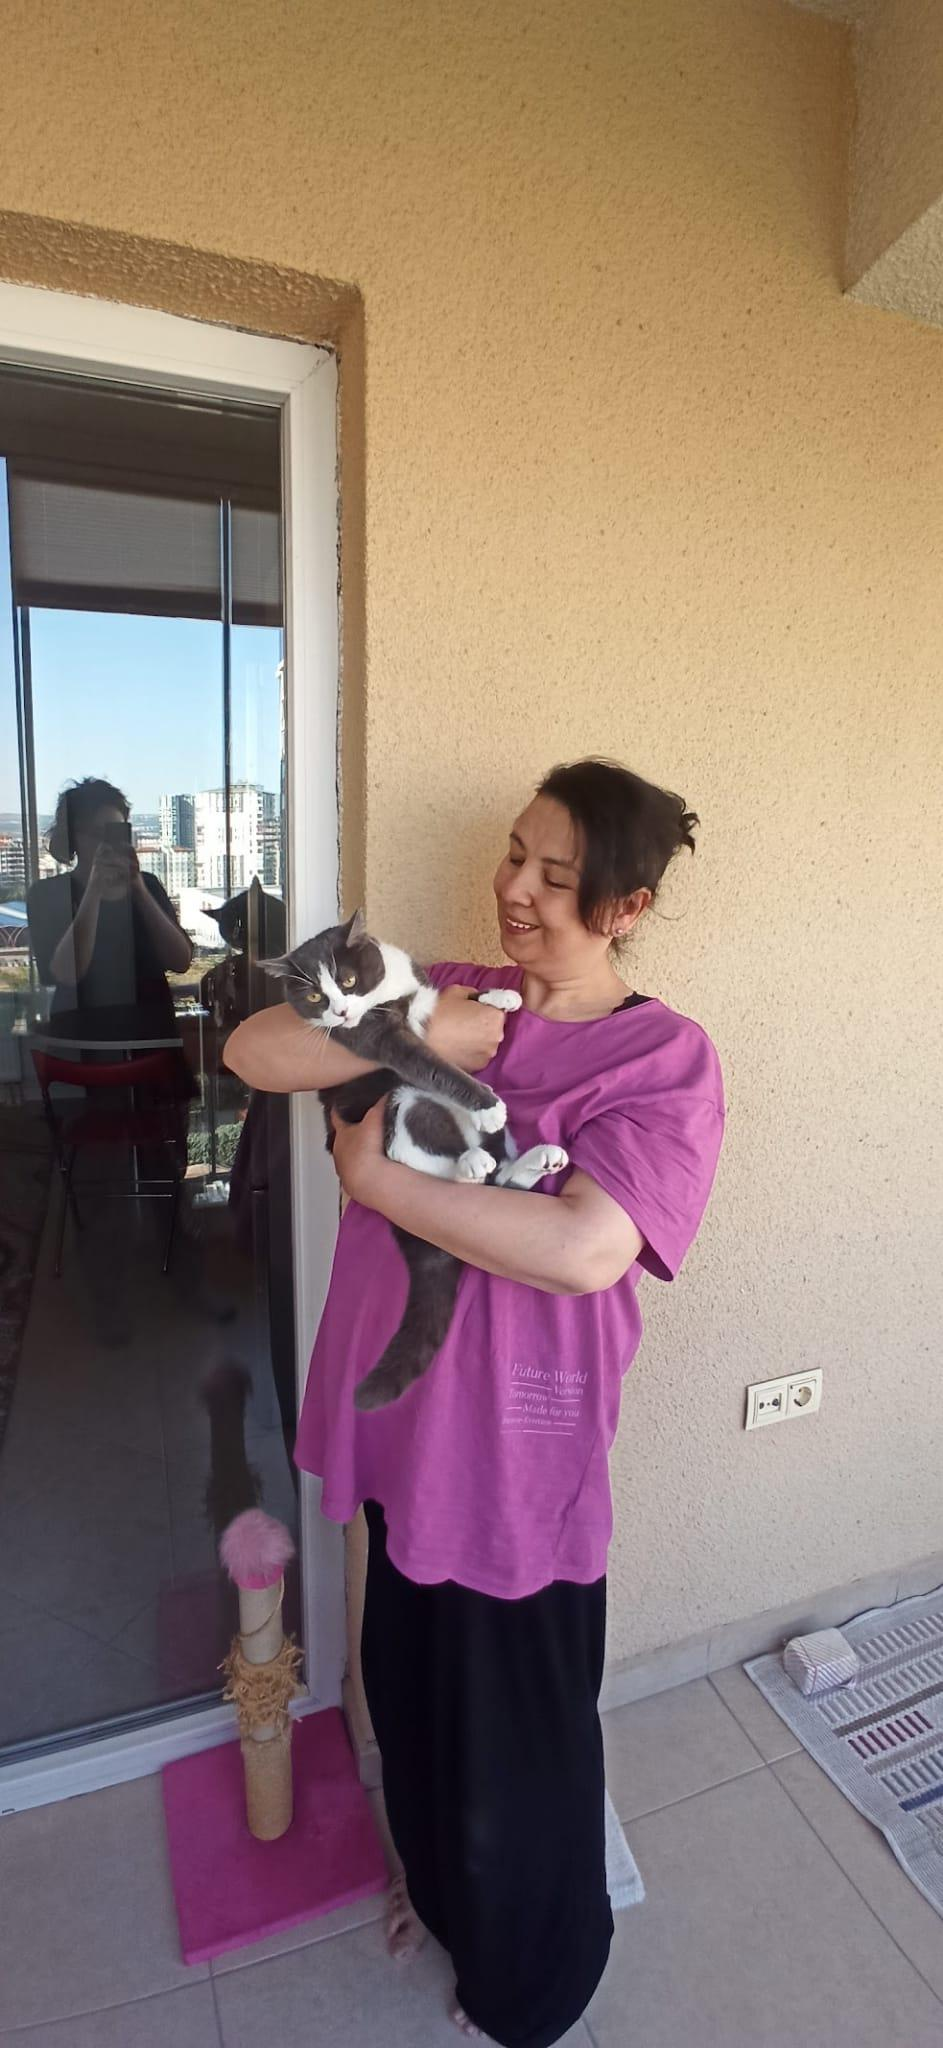kedo: (256, 906, 384, 1029)
